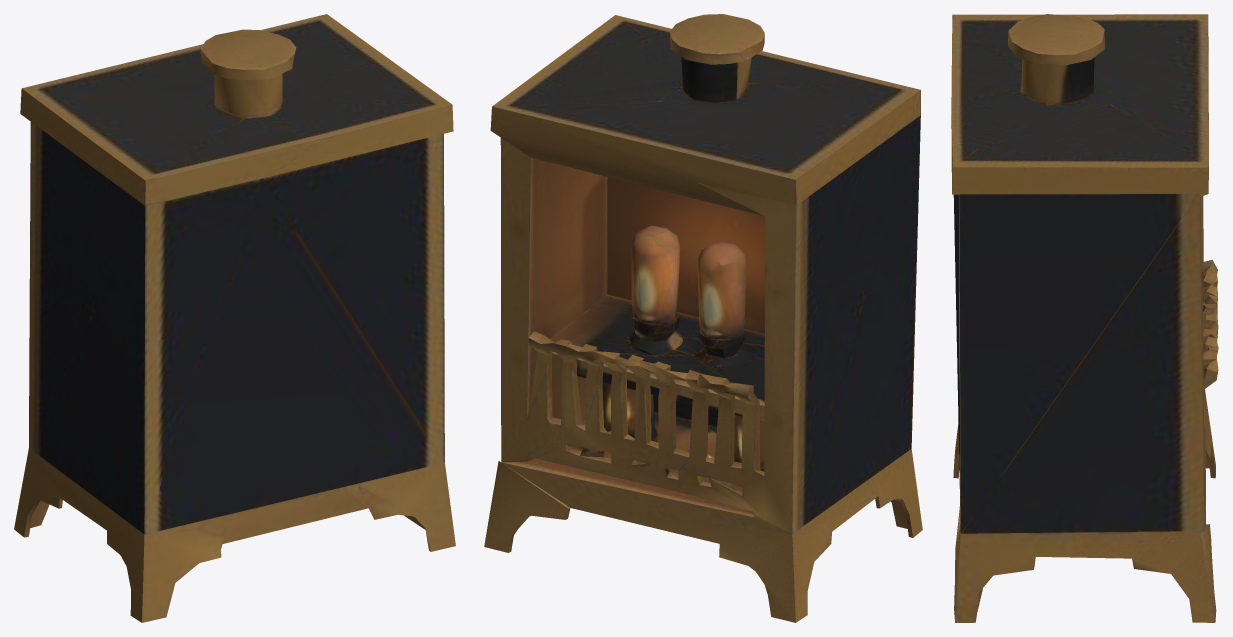
The model's file is mj-electric-heater.glb.
The picture shows the model from 3 angles, left to right: view 1: azimuth 30°, elevation 25°; view 2: azimuth 150°, elevation 25°; view 3: azimuth 270°, elevation 25°; orthographic projection. The views are drawn at different scales.
Visible parts, largest first — view 1: mj-electric-heater; view 2: mj-electric-heater; view 3: mj-electric-heater.
Part boxes in pixels (bbox=[...]): mj-electric-heater: bbox=[14, 14, 455, 622]; mj-electric-heater: bbox=[484, 14, 922, 622]; mj-electric-heater: bbox=[951, 14, 1218, 622].
Size of the model in its own units: 0.4603 by 0.7 by 0.33.
Materials: 2 (2 with a texture image).
